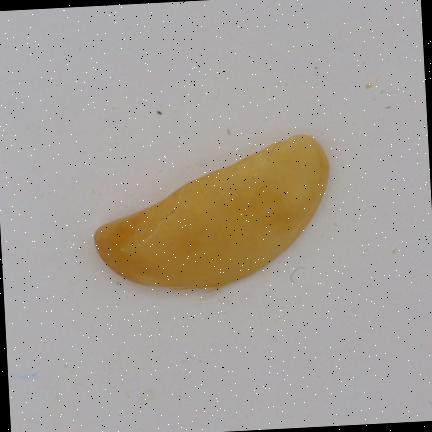parchment: (95, 136, 329, 289)
